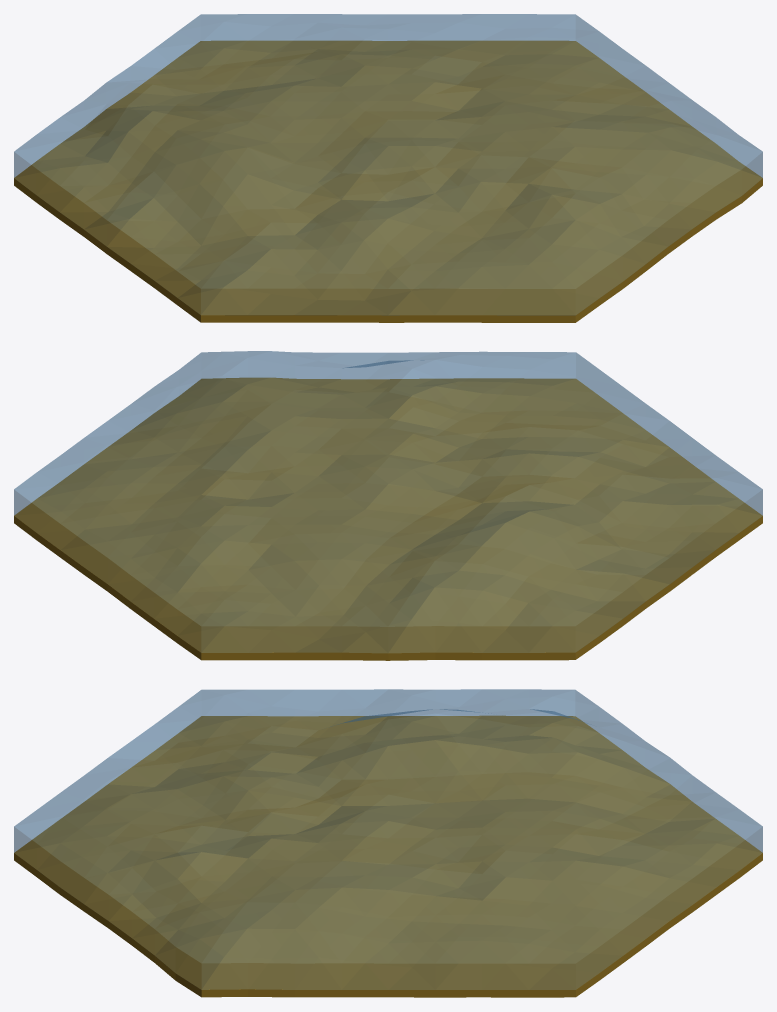
File: deepOcean.glb
3 views of the same model, one above another, from view 1: azimuth 30°, elevation 25°; view 2: azimuth 150°, elevation 25°; view 3: azimuth 270°, elevation 25° (orthographic).
Parts seen in each view (by area): view 1: deepocean, deepocean2; view 2: deepocean, deepocean2; view 3: deepocean, deepocean2.
Boxes of the visible parts, x1,y1,x2,y2 form: deepocean: [14, 14, 762, 315]; deepocean2: [14, 40, 762, 322]; deepocean: [14, 351, 762, 652]; deepocean2: [14, 377, 762, 660]; deepocean: [14, 689, 762, 989]; deepocean2: [14, 715, 762, 997].
Size of the model in its own units: 1.73 by 0.2308 by 2.
